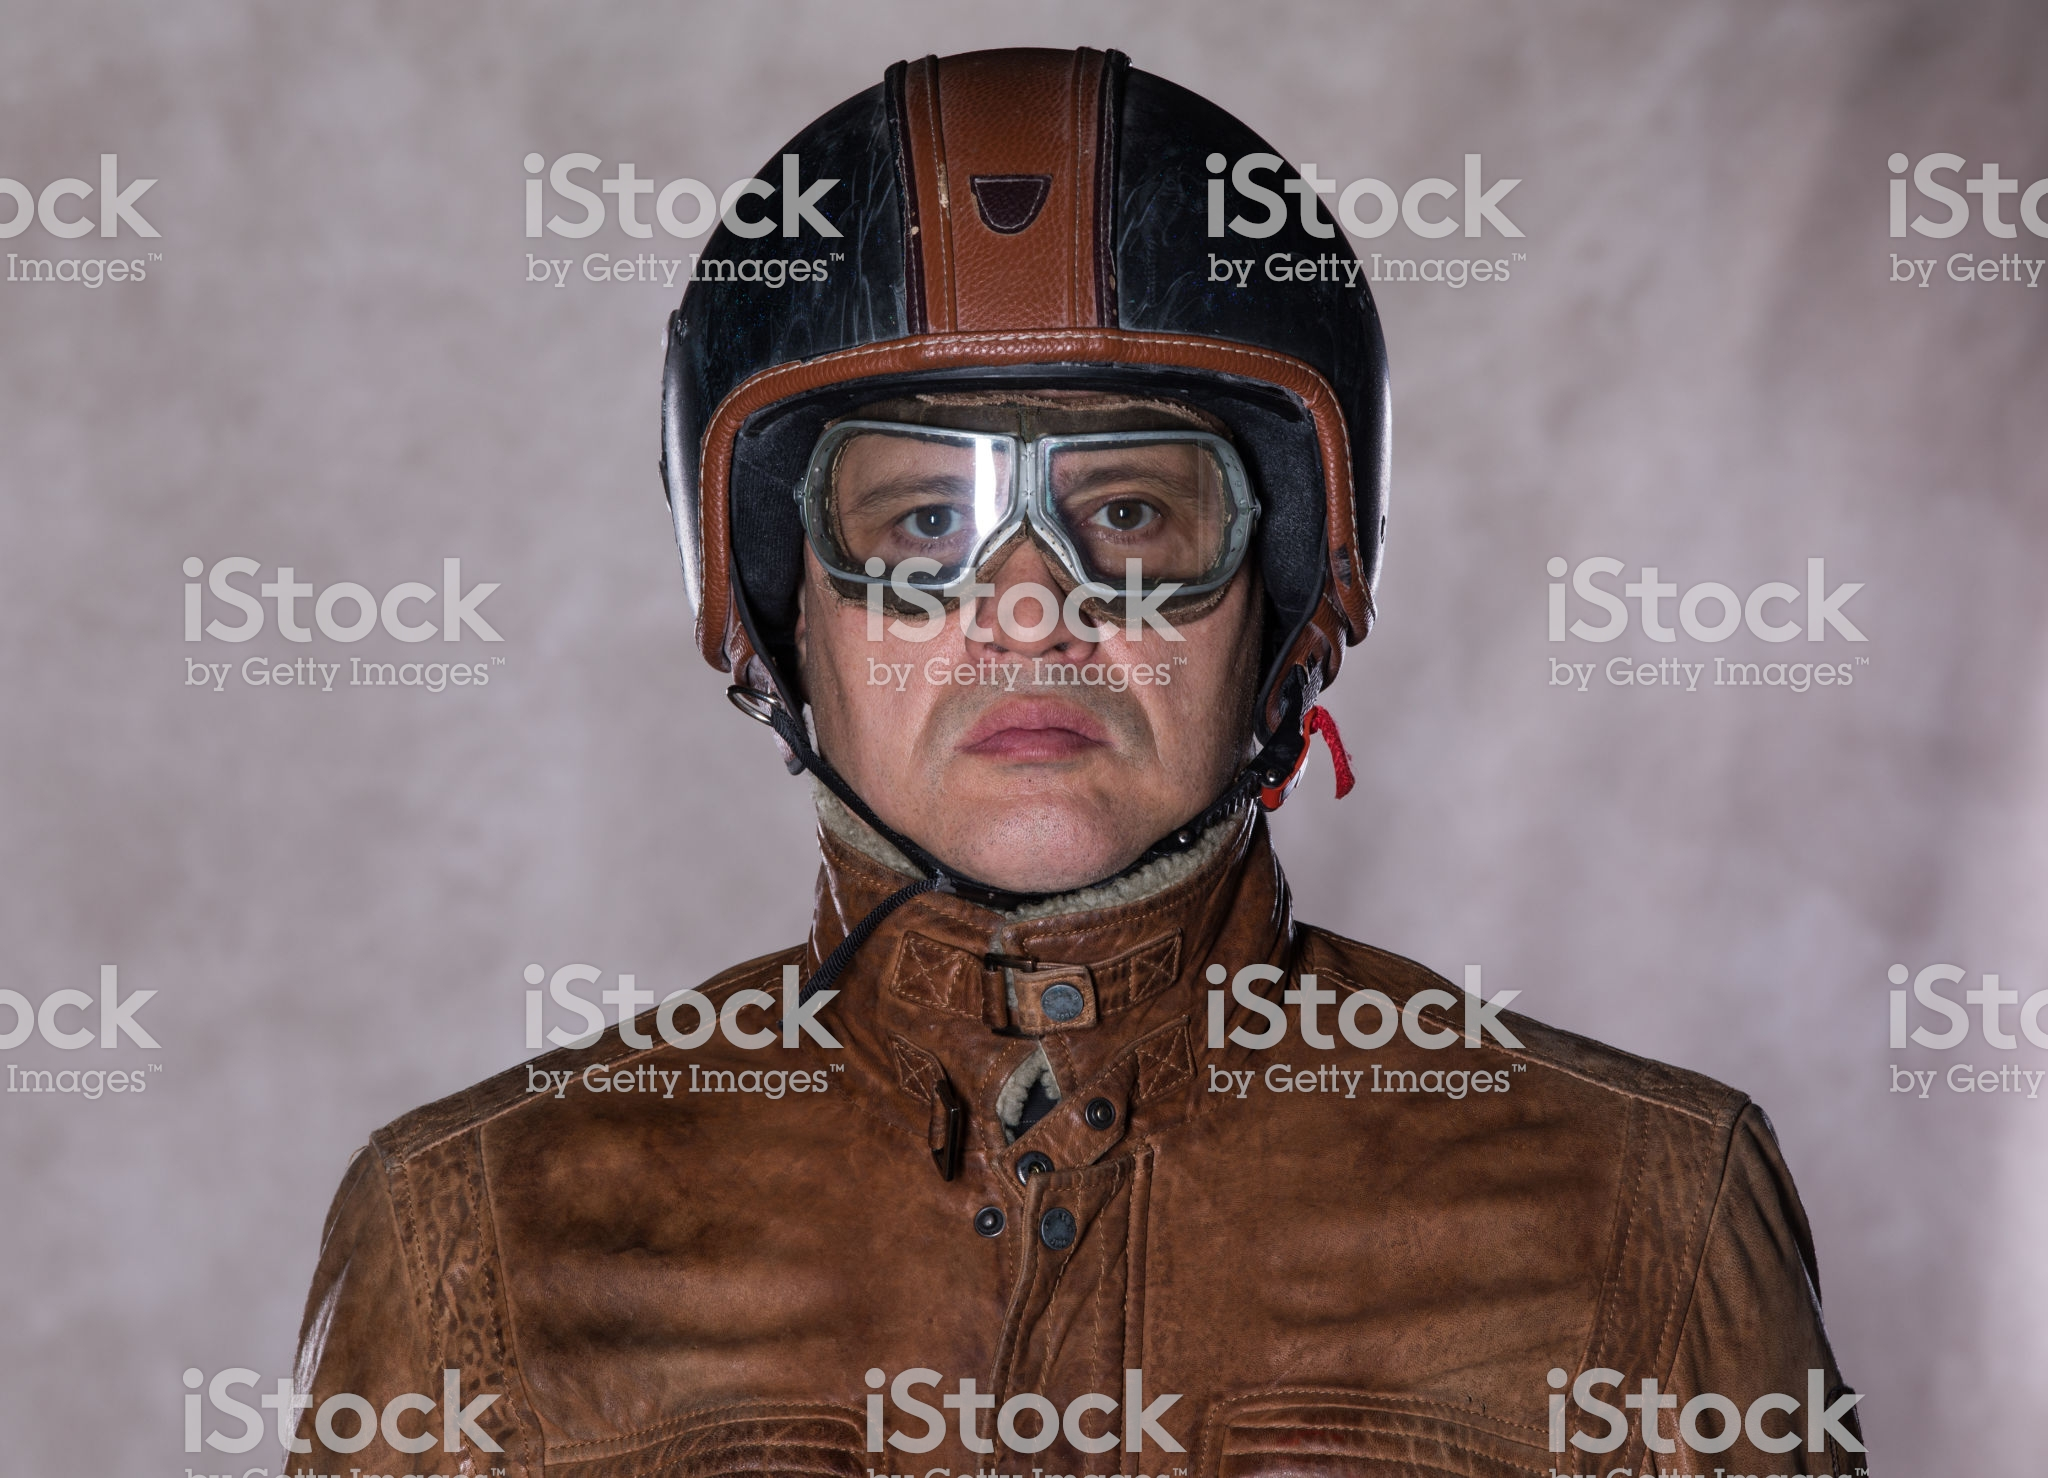helmet: (654, 65, 1441, 722)
